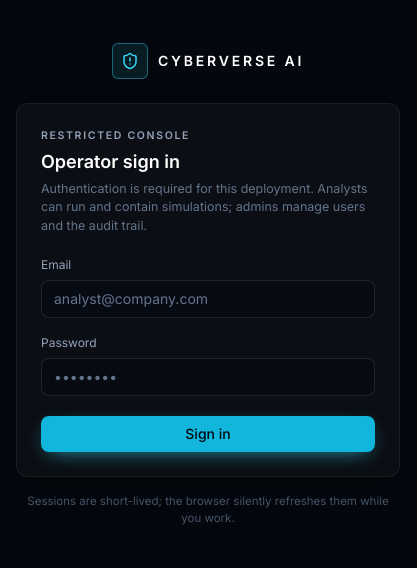
Login page › shows the backend error for bad credentials
This screenshot has width=417, height=568.
Step 1. Type "admin@cyberverse.local" into the field labelled "Email" → [208, 299], box left=41, top=280, right=375, bottom=318
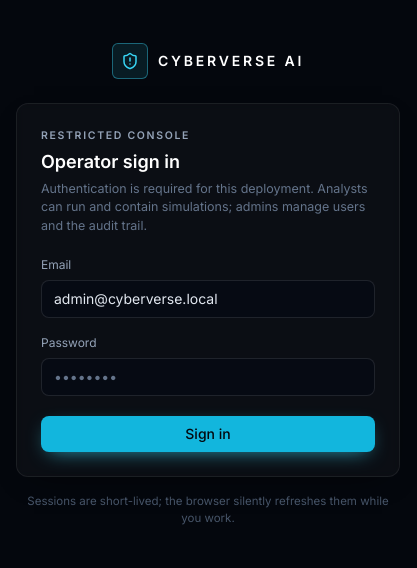
Step 2. Type "wrong" into the password field labelled "Password" → [208, 377], box left=41, top=358, right=375, bottom=396
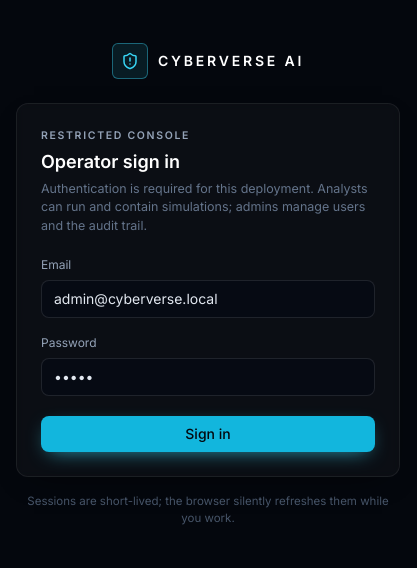
Step 3. Click the button "Sign in" → [208, 434], box left=41, top=416, right=375, bottom=452
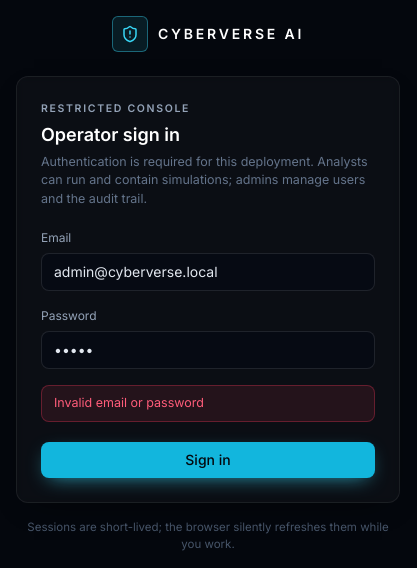
Result: the message reads "Invalid email or password" at left=54, top=395, right=204, bottom=410
